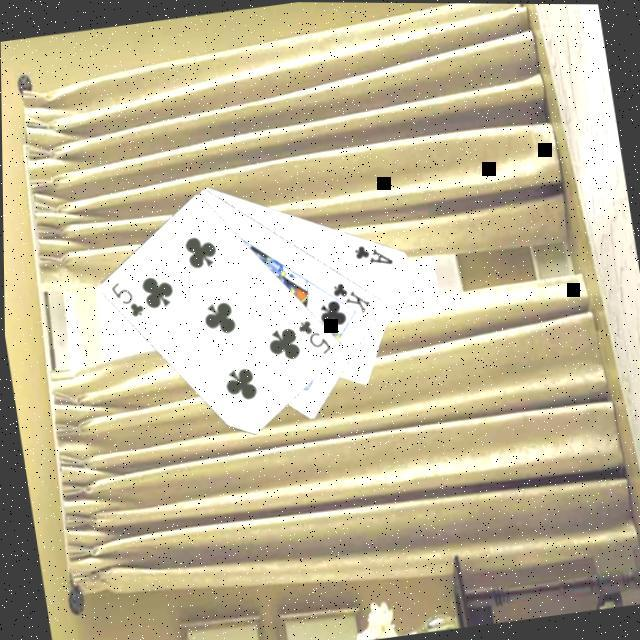5C: (292, 316, 334, 363), (105, 278, 147, 325)
AC: (348, 239, 394, 275)
KC: (318, 277, 373, 323)
